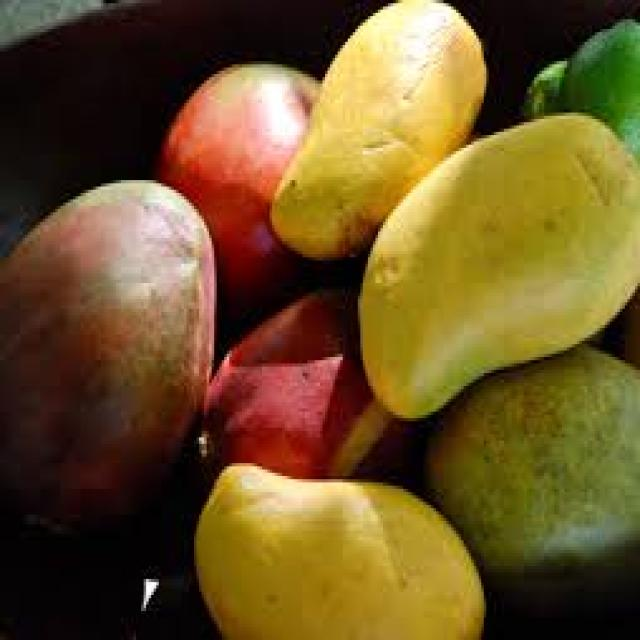mango: (270, 0, 489, 261)
